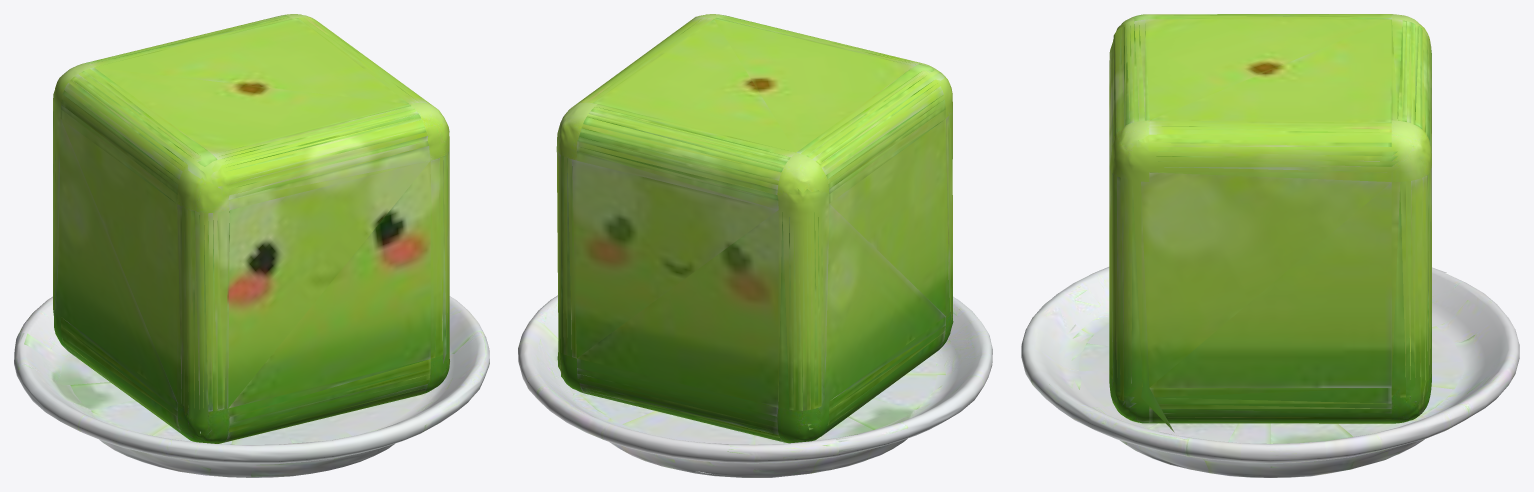
The model's file is p_jelly.glb.
3 renders of one model, left to right at view 1: azimuth 30°, elevation 25°; view 2: azimuth 150°, elevation 25°; view 3: azimuth 270°, elevation 25°, orthographic. The views are drawn at different scales.
Size of the model in its own units: 0.9531 by 0.7056 by 0.9521.
1 material, 1 textured.
